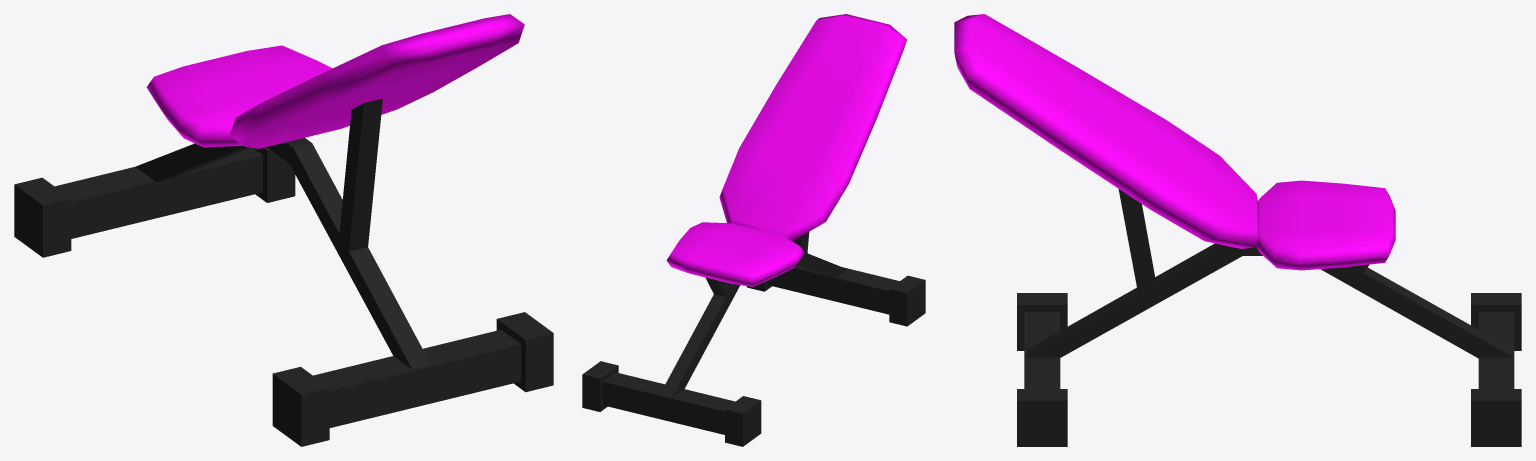
File: WeightBench.fbx
3 views of the same model, side by side, from view 1: azimuth 30°, elevation 25°; view 2: azimuth 150°, elevation 25°; view 3: azimuth 270°, elevation 25° (orthographic). The views are drawn at different scales.
Visible parts, largest first — view 1: WeightBench; view 2: WeightBench; view 3: WeightBench.
Boxes of the visible parts, x1=… form: WeightBench: x1=14, y1=14, x2=553, y2=446; WeightBench: x1=582, y1=14, x2=925, y2=446; WeightBench: x1=954, y1=14, x2=1521, y2=446.
Size of the model in its own units: 2.5 by 3.86 by 5.54.
